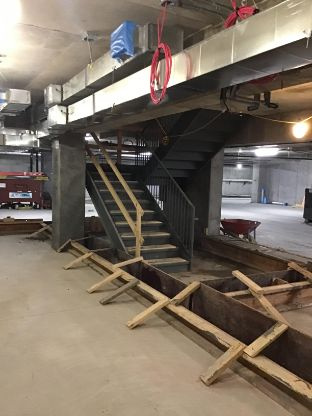Duct: (41, 1, 311, 143), (1, 120, 53, 159), (1, 81, 35, 118)
